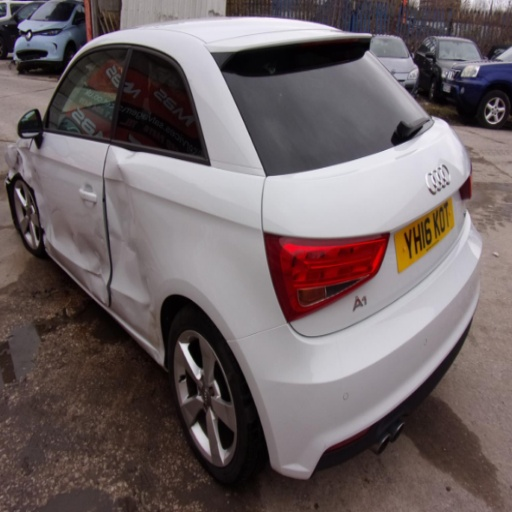dent: (49, 210, 111, 310), (108, 228, 158, 305), (105, 164, 138, 241), (4, 140, 45, 195), (38, 198, 56, 259), (148, 309, 164, 353), (111, 142, 138, 168), (144, 301, 161, 336), (149, 332, 165, 367)
